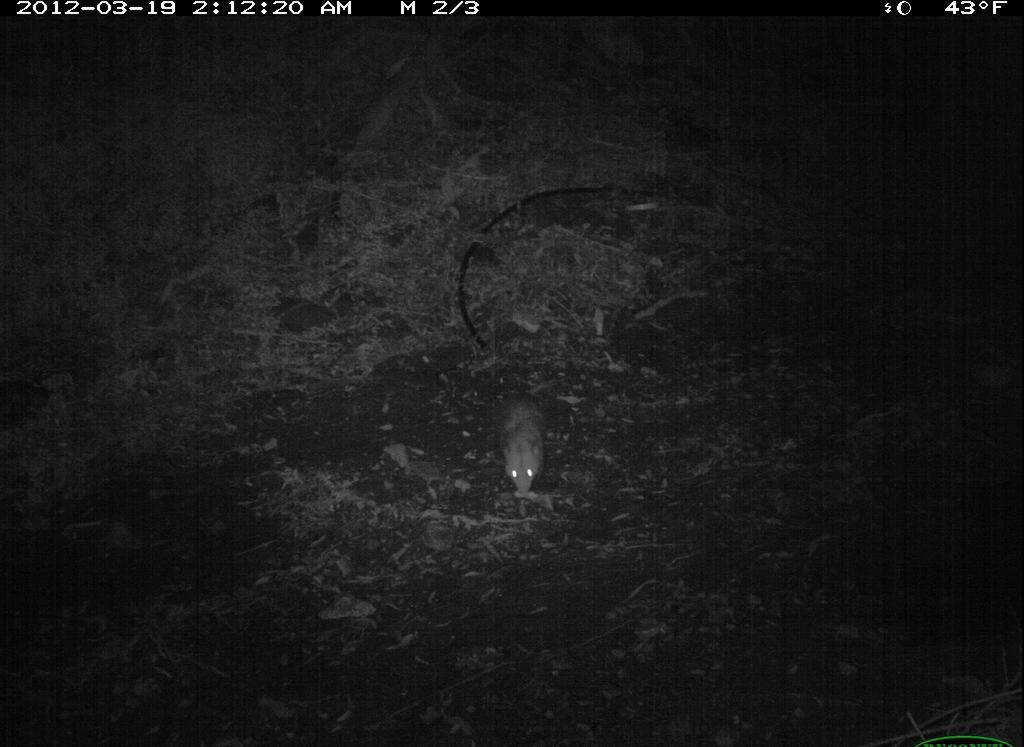opossum: (493, 368, 565, 502)
